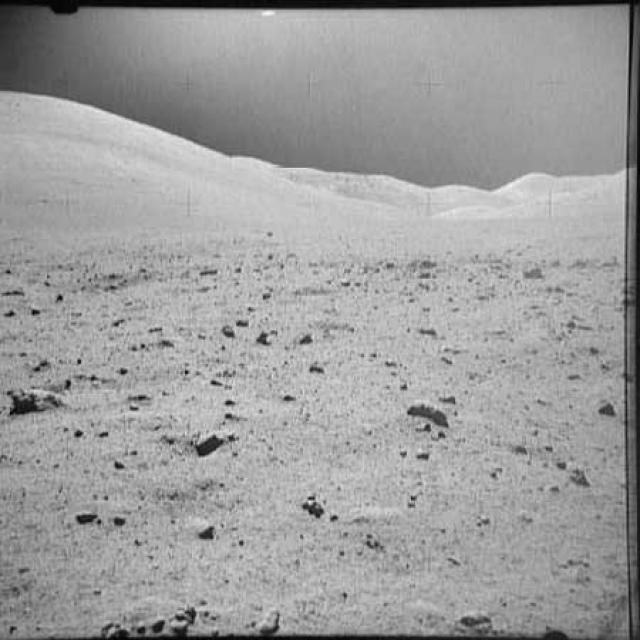crater: (114, 423, 234, 466)
rock: (0, 372, 76, 422), (400, 392, 449, 440), (190, 423, 242, 452), (514, 256, 546, 284)
